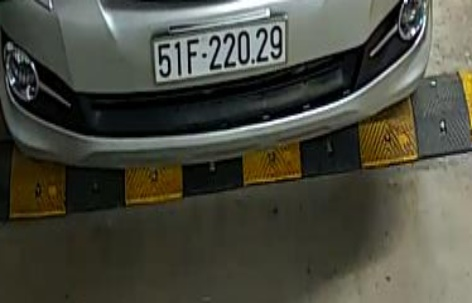plate: (148, 19, 289, 83)
